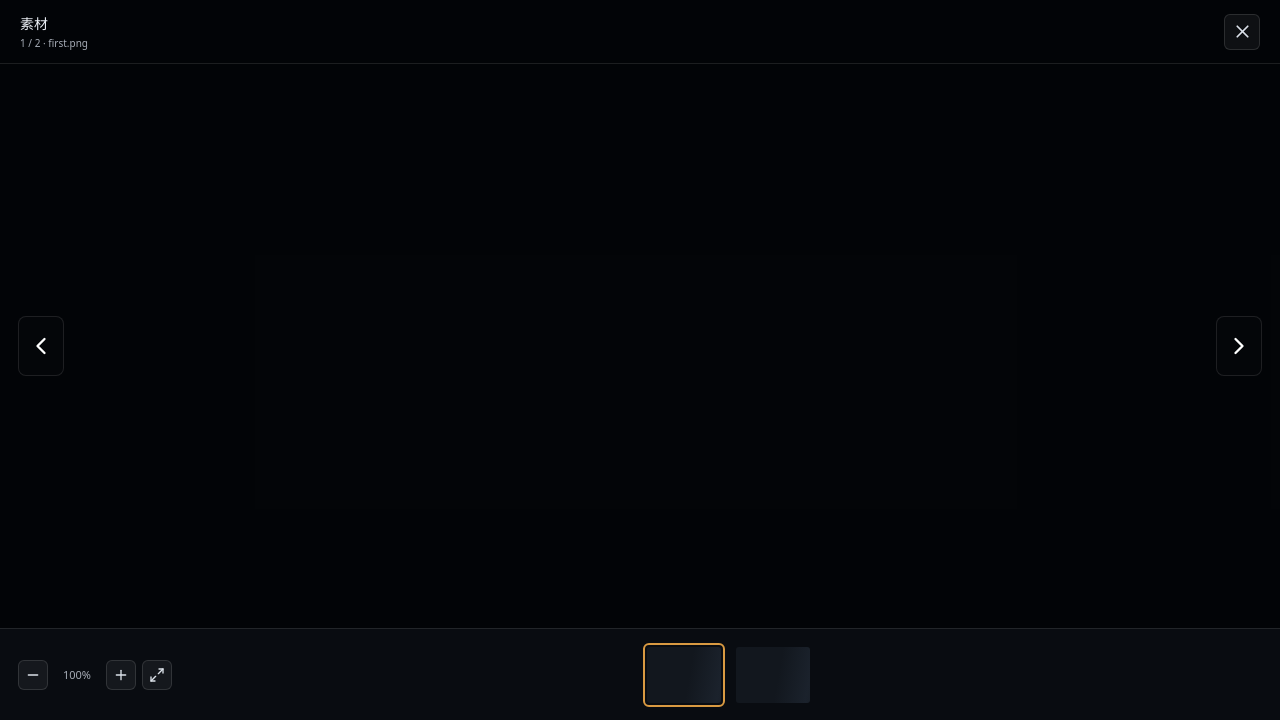
Scenario: ImageLightbox › switches images with controls and keyboard
Check: the text "1 / 2 · first.png" is shown, box 20,36 -> 88,50
Click the button named "下一张" at (1239, 346), box 1216,316 -> 1262,376
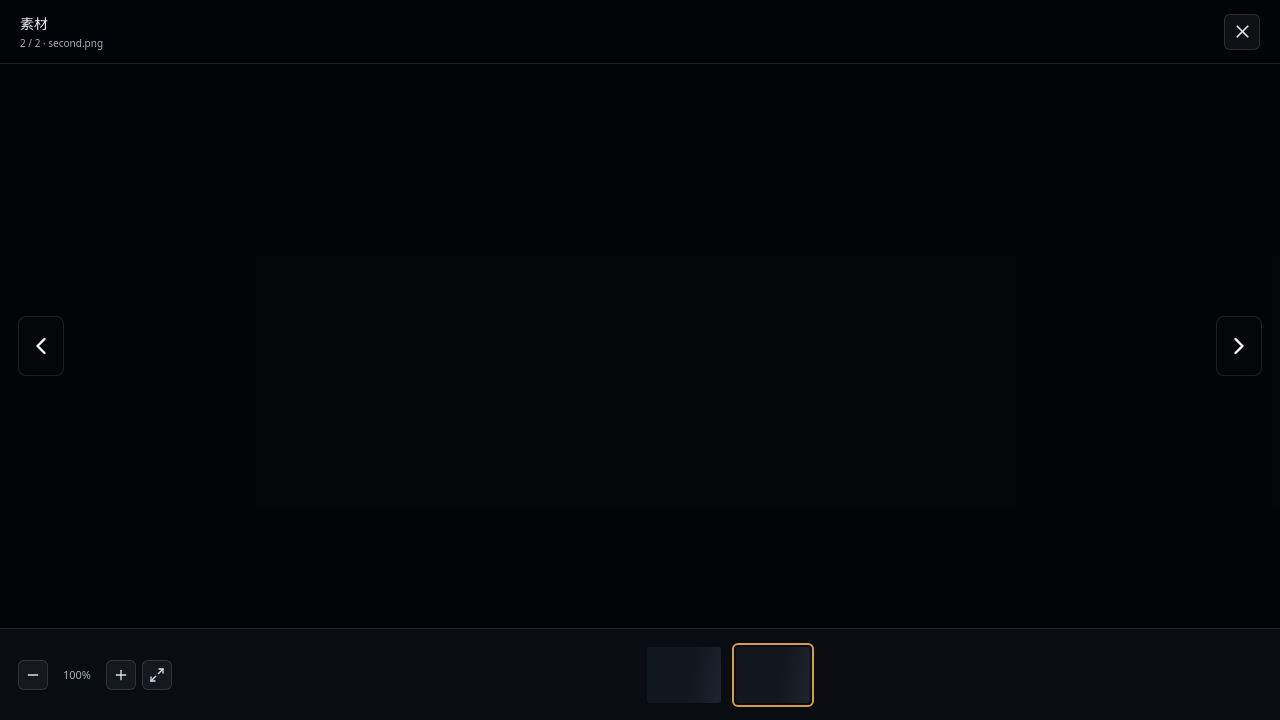
Check: the text "2 / 2 · second.png" is shown, box 20,36 -> 103,50
Press ArrowLeft
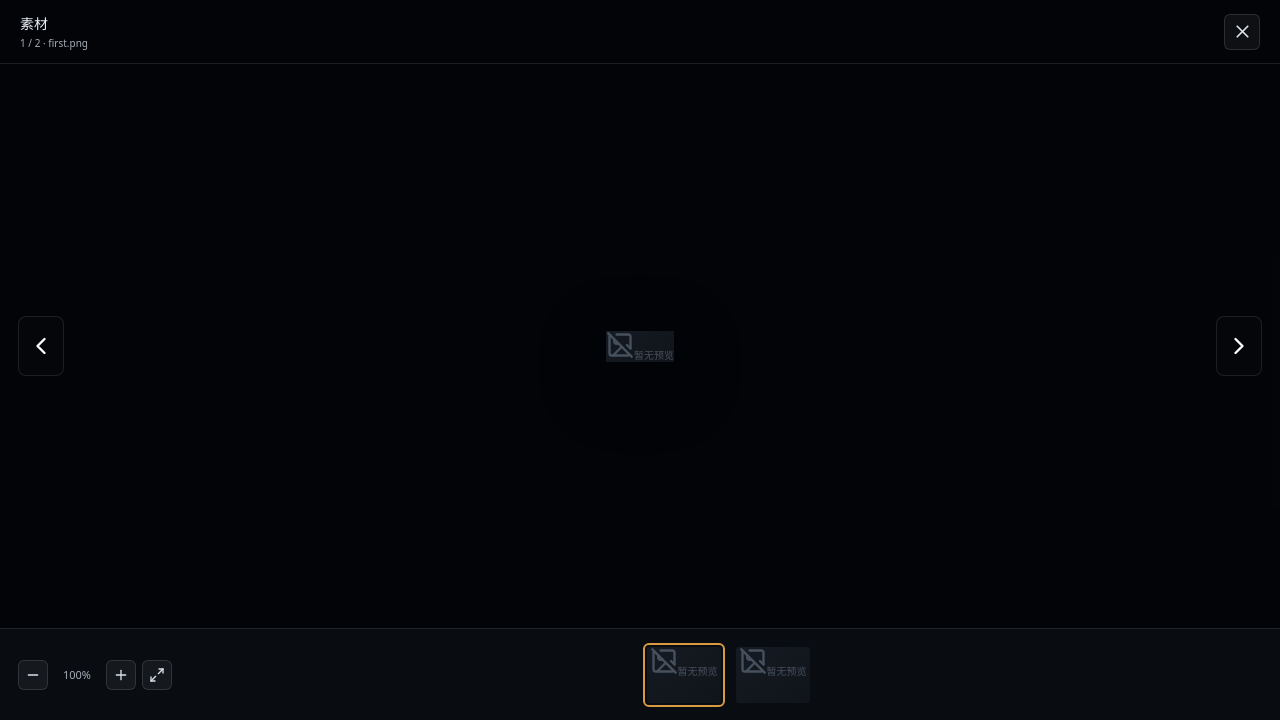
Check: the text "1 / 2 · first.png" is shown, box 20,36 -> 88,50
